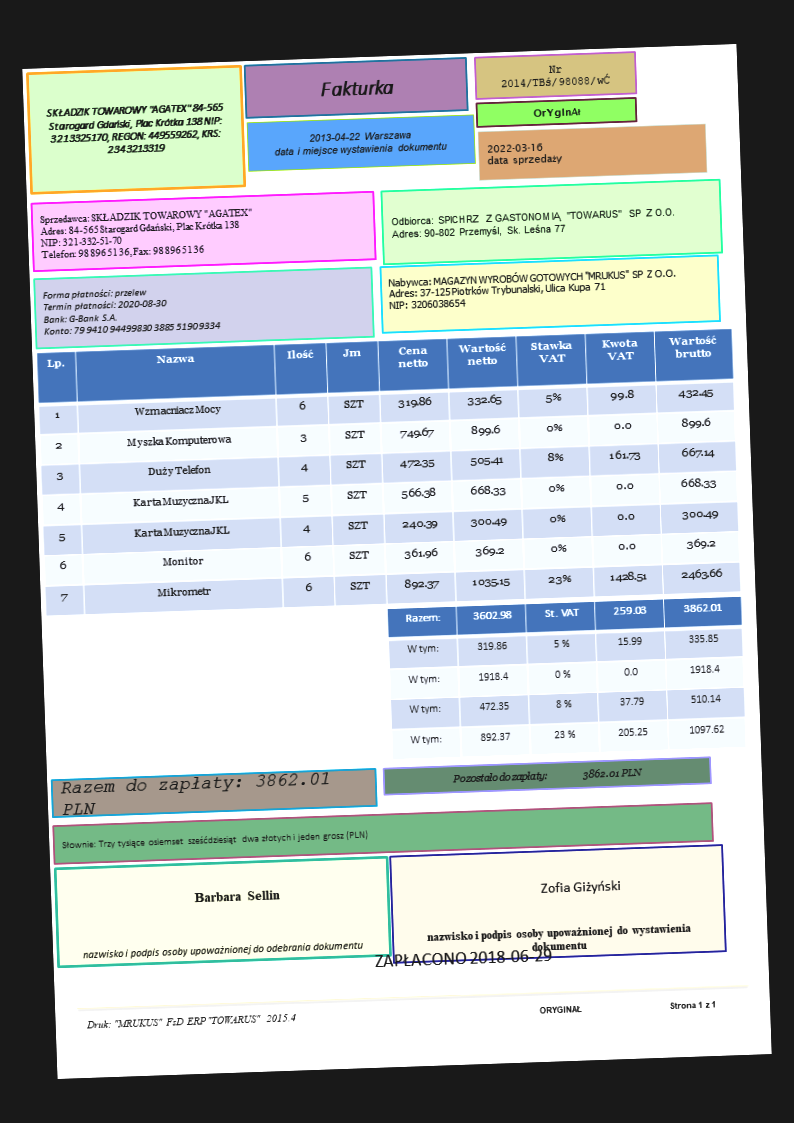Table: (35, 328, 741, 617), (386, 595, 747, 759)
TextBox: (385, 266, 676, 312), (59, 771, 331, 817), (36, 205, 254, 262), (42, 99, 226, 160), (389, 205, 679, 242), (40, 282, 223, 339), (424, 922, 693, 956), (60, 829, 370, 852), (80, 938, 364, 963), (271, 126, 449, 159), (85, 1010, 299, 1031), (372, 947, 553, 971), (449, 765, 646, 786), (498, 60, 613, 90), (538, 997, 718, 1016), (484, 139, 565, 169), (317, 78, 395, 99), (538, 878, 623, 897), (192, 888, 280, 905), (531, 104, 584, 121)
